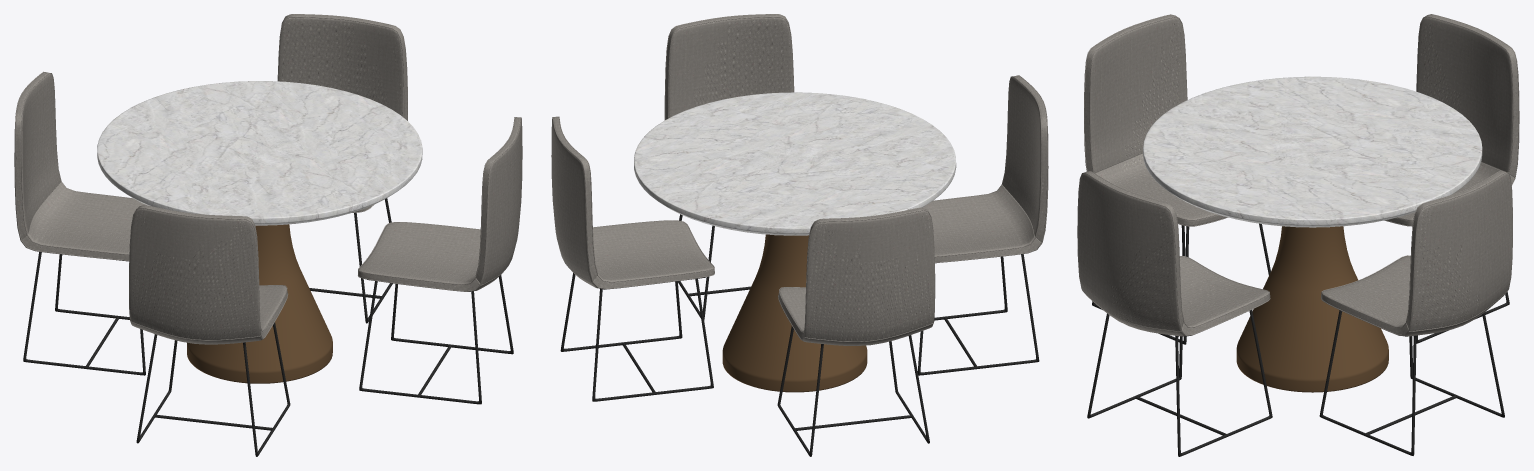
File: sm_chair_table.glb
3 views of the same model, side by side, from view 1: azimuth 30°, elevation 25°; view 2: azimuth 150°, elevation 25°; view 3: azimuth 270°, elevation 25° (orthographic). The views are drawn at different scales.
Parts seen in each view (by area): view 1: Table, Plane.002, Plane.004, Plane.001, Plane.003; view 2: Table, Plane.001, Plane.003, Plane.002, Plane.004; view 3: Table, Plane.004, Plane.003, Plane.002, Plane.001.
Boxes of the visible parts, x1,y1,x2,y2 form: Table: (97, 81, 422, 383); Plane.002: (129, 205, 290, 456); Plane.004: (358, 117, 522, 404); Plane.001: (14, 71, 146, 375); Plane.003: (277, 14, 407, 323); Table: (634, 92, 956, 392); Plane.001: (777, 207, 935, 456); Plane.003: (551, 116, 714, 401); Plane.002: (917, 75, 1048, 375); Plane.004: (664, 14, 794, 319); Table: (1143, 76, 1482, 392); Plane.004: (1077, 171, 1272, 456); Plane.003: (1319, 170, 1512, 455); Plane.002: (1084, 14, 1270, 344); Plane.001: (1384, 14, 1519, 343).
Size of the model in its own units: 1.52 by 0.9014 by 1.43.
Materials: 2 (2 with a texture image).
